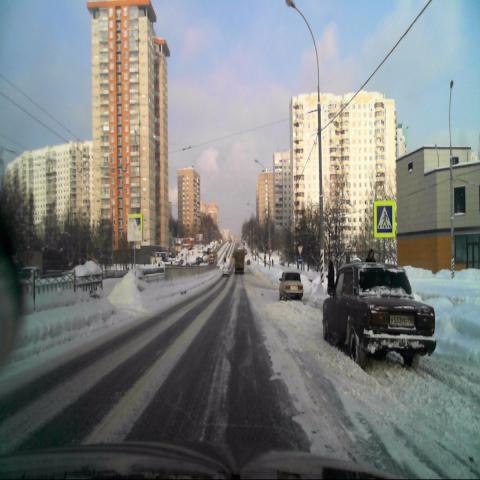5_19_1: (374, 201, 394, 238), (126, 212, 142, 240)
